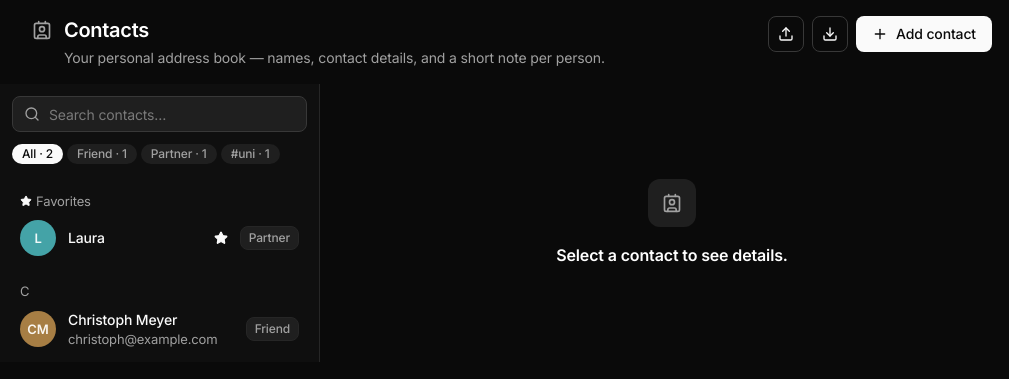
Test case: ContactsView (master–detail) › filters by tag chips
The width and height of the screenshot is (1009, 379).
Expected: the text "Christoph Meyer" is shown, left=68, top=311, right=177, bottom=328
Click the button "#uni · 1".
click(250, 154)  # box left=221, top=144, right=280, bottom=164
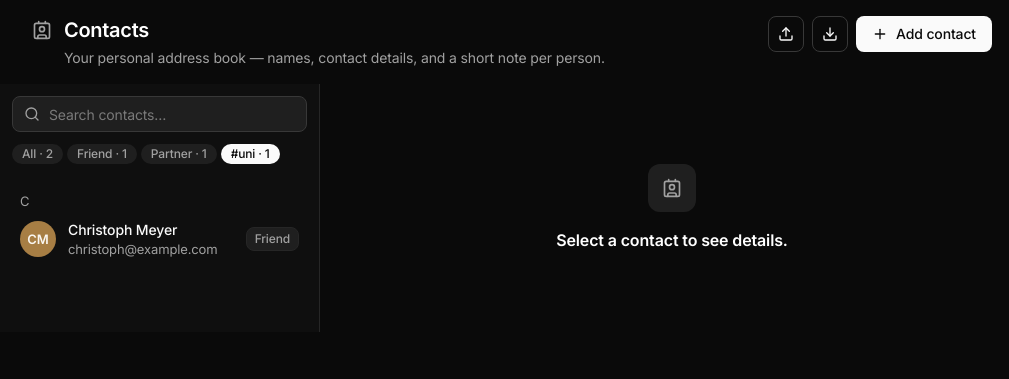
Expected: the text "Christoph Meyer" is shown, left=68, top=221, right=177, bottom=238
Now the button "Laura" is gone
